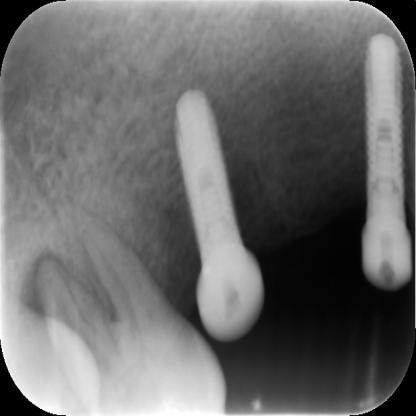Bego: (172, 77, 233, 259), (352, 41, 405, 214)
